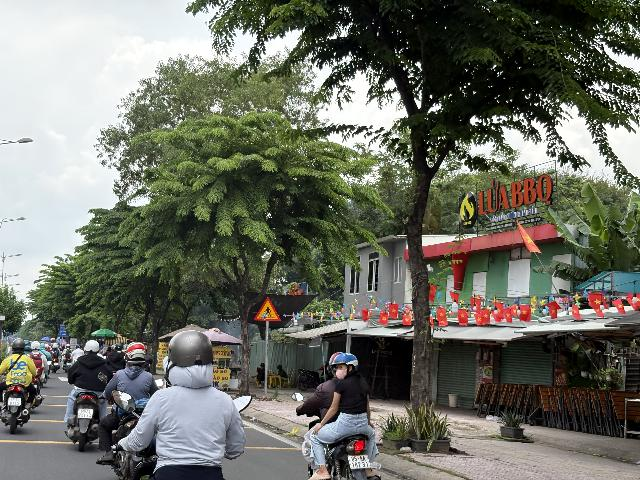duong-nguoi-di-bo-cat-ngang: (254, 296, 281, 321)
